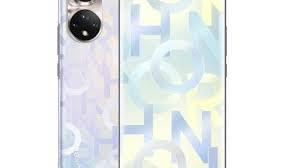Smartphone: (119, 0, 227, 168), (60, 0, 124, 168)
